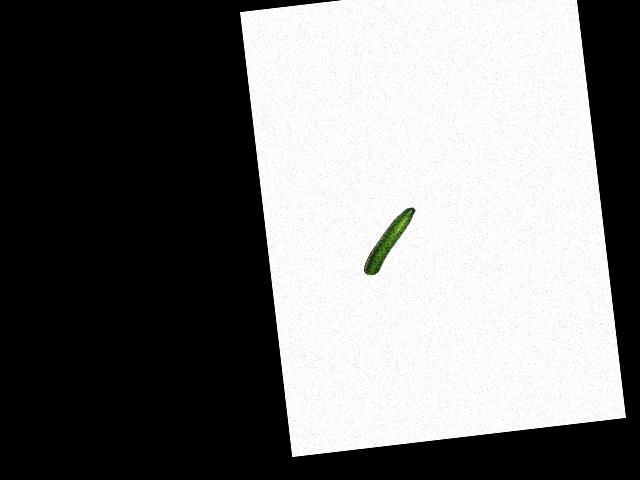cucumber: (357, 207, 422, 276)
